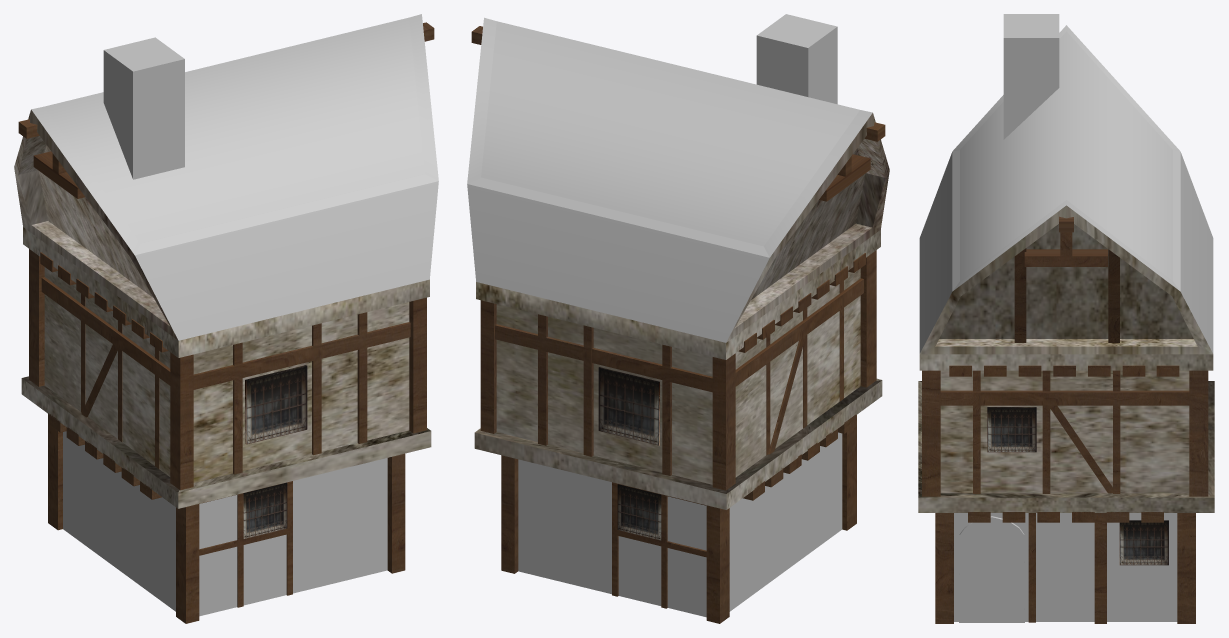
File: House_1.fbx
3 renders of one model, left to right at view 1: azimuth 30°, elevation 25°; view 2: azimuth 150°, elevation 25°; view 3: azimuth 270°, elevation 25°, orthographic. The views are drawn at different scales.
Parts seen in each view (by area): view 1: House_1; view 2: House_1; view 3: House_1.
Boxes of the visible parts, bbox=[...] form: House_1: bbox=[14, 14, 438, 623]; House_1: bbox=[467, 14, 889, 623]; House_1: bbox=[918, 14, 1214, 623].
Bounding box in the file's own units: 31.61 × 39.26 × 21.04.
